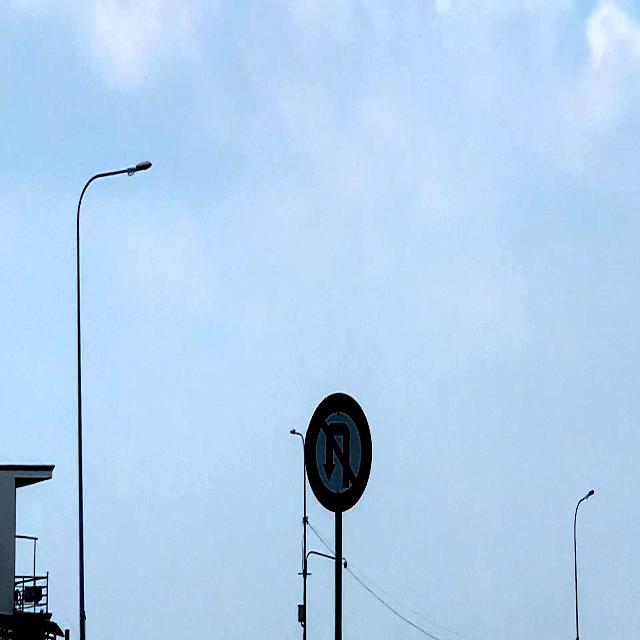P.124a: (302, 384, 378, 519)
